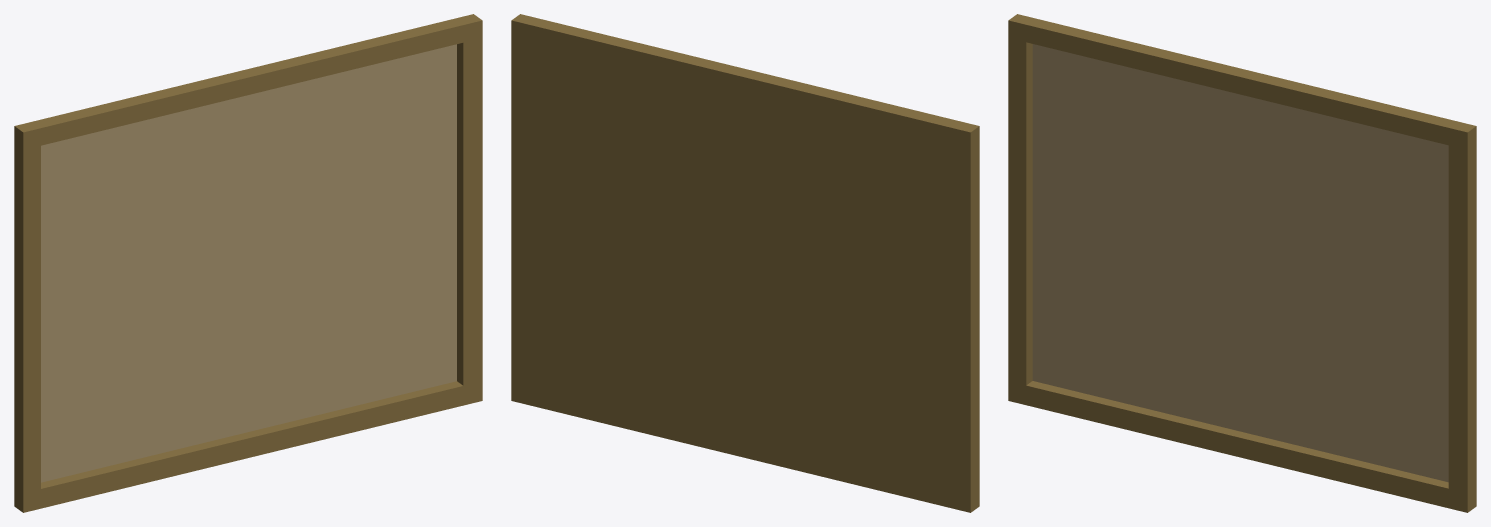
The model's file is Bulletinboard.fbx.
3 views of the same model, side by side, from view 1: azimuth 30°, elevation 25°; view 2: azimuth 150°, elevation 25°; view 3: azimuth 330°, elevation 25° (orthographic).
Parts seen in each view (by area): view 1: Bulletinboard; view 2: Bulletinboard; view 3: Bulletinboard.
Part boxes in pixels (x1,y1,x2,y2): Bulletinboard: (14, 14, 482, 512); Bulletinboard: (511, 14, 979, 512); Bulletinboard: (1008, 14, 1476, 512).
Size of the model in its own units: 11.45 by 9.06 by 0.3805.
